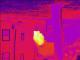Foc: (28, 26, 48, 50)
